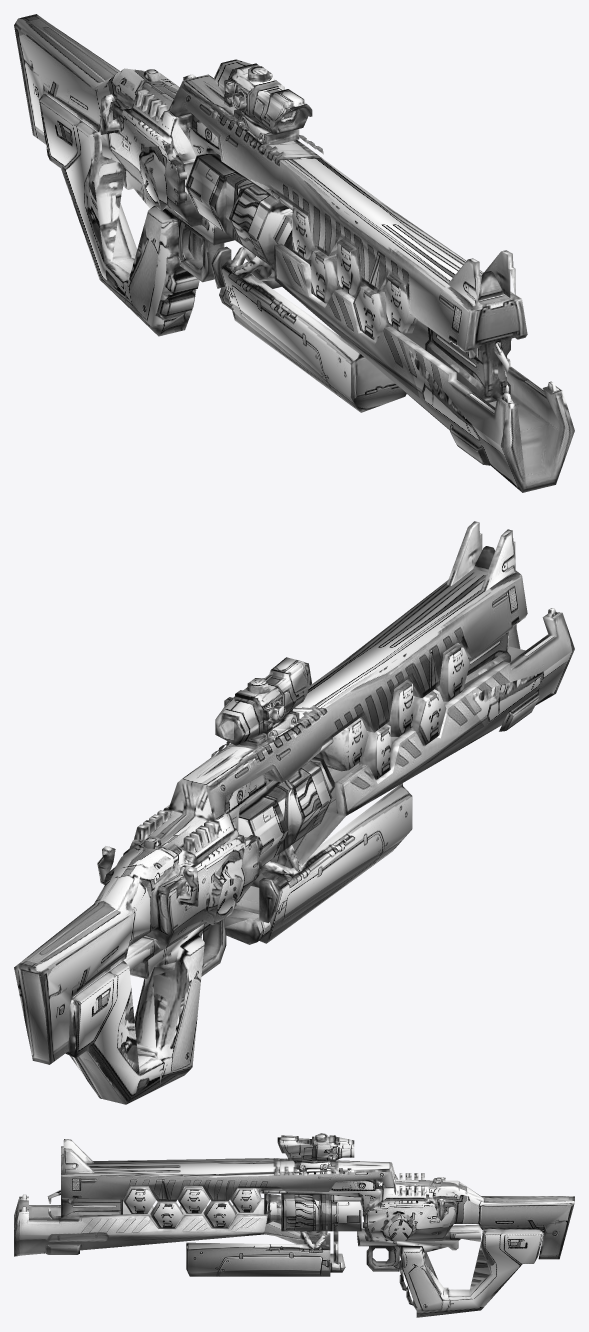
The picture shows the model from 3 angles, top to bottom: view 1: azimuth 30°, elevation 25°; view 2: azimuth 150°, elevation 25°; view 3: azimuth 270°, elevation 25°; orthographic projection. The views are drawn at different scales.
Parts seen in each view (by area): view 1: gun; view 2: gun; view 3: gun.
Part boxes in pixels (left/top/right/bottom): gun: left=14, top=14, right=574, bottom=492; gun: left=14, top=521, right=574, bottom=1104; gun: left=14, top=1133, right=574, bottom=1317.
Bounding box in the file's own units: 0.2958 × 0.9128 × 2.6.
Materials: 4 (4 with a texture image).
